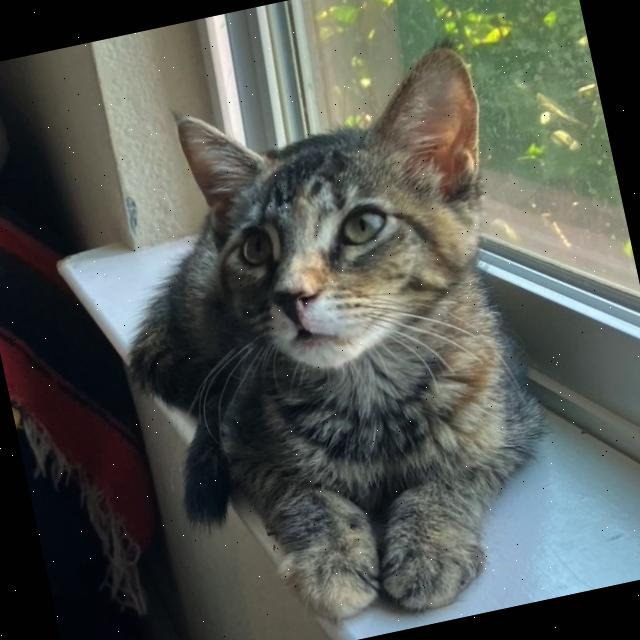american_shorthair_cat: (161, 29, 535, 402)
